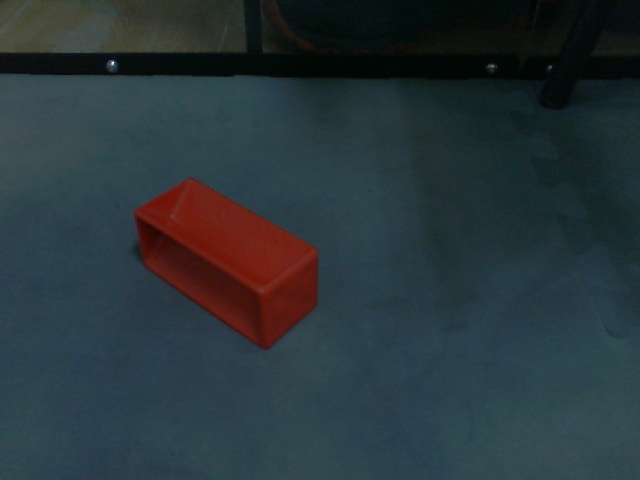RedSample: (130, 173, 322, 353)
